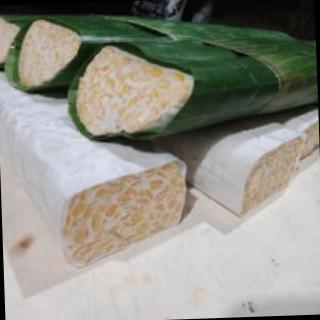Tempe: (1, 104, 194, 274)
